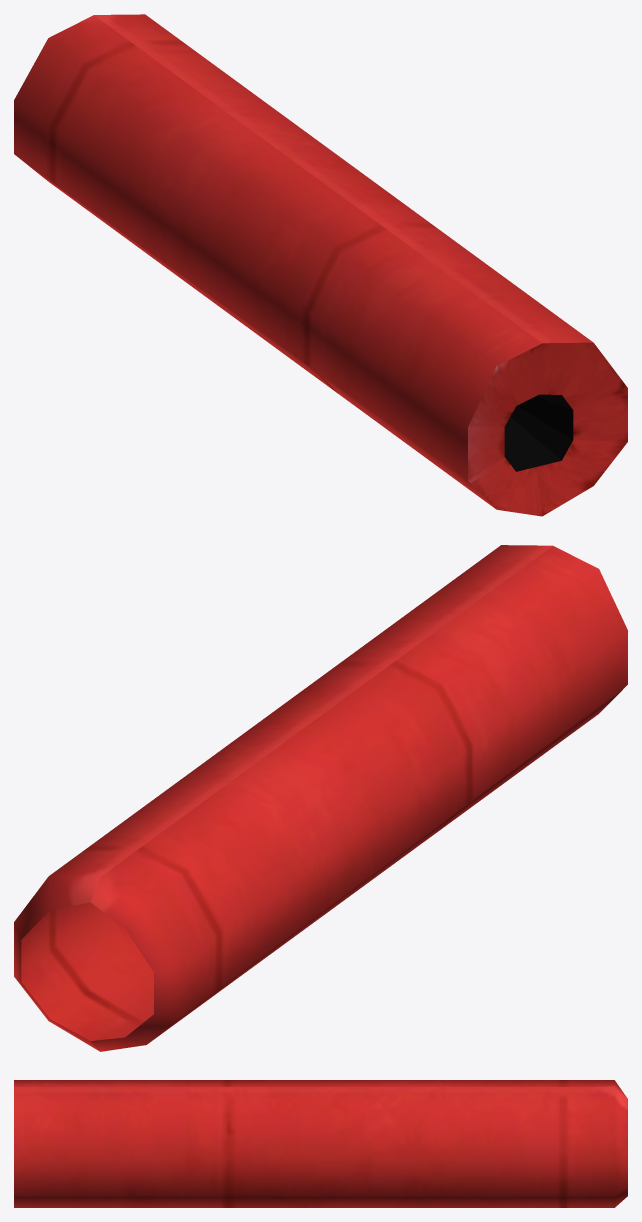
File: silencerM4.fbx
The picture shows the model from 3 angles, top to bottom: view 1: azimuth 30°, elevation 25°; view 2: azimuth 150°, elevation 25°; view 3: azimuth 270°, elevation 25°; orthographic projection. The views are drawn at different scales.
Visible parts, largest first — view 1: M4A1_resources_assets_2042:M4A1_0; view 2: M4A1_resources_assets_2042:M4A1_0; view 3: M4A1_resources_assets_2042:M4A1_0.
Boxes of the visible parts, <box> form: M4A1_resources_assets_2042:M4A1_0: <box>14,14,627,516</box>; M4A1_resources_assets_2042:M4A1_0: <box>14,545,627,1051</box>; M4A1_resources_assets_2042:M4A1_0: <box>14,1080,627,1207</box>.
Bounding box in the file's own units: 0.0391 × 0.0391 × 0.1875.
